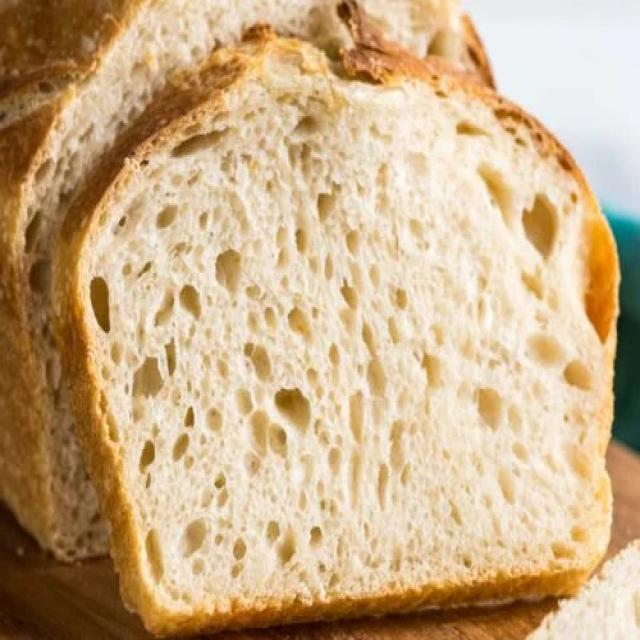Bread: (90, 29, 620, 635), (1, 0, 520, 561)
